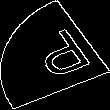P_SE: (18, 24, 92, 86)
